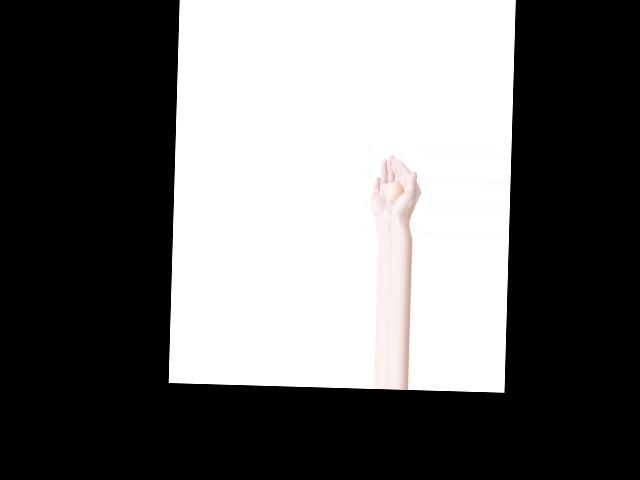egg: (385, 181, 403, 202)
